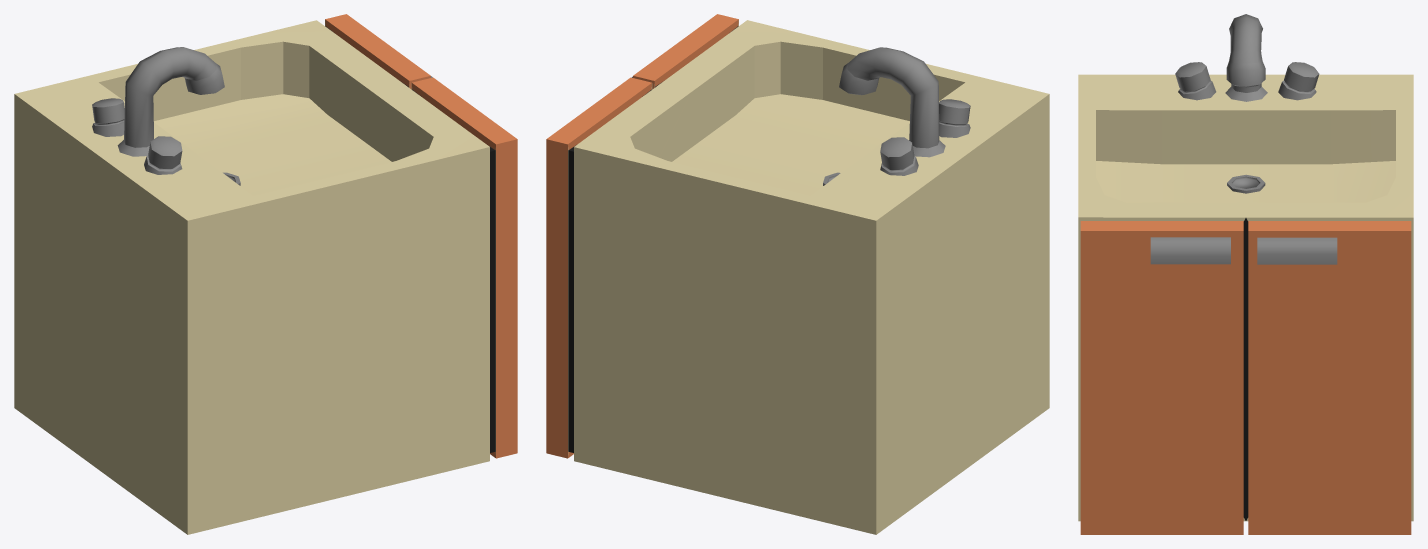
Rendered from SM_Sink_02 2.fbx.
3 renders of one model, left to right at view 1: azimuth 30°, elevation 25°; view 2: azimuth 150°, elevation 25°; view 3: azimuth 270°, elevation 25°, orthographic. The views are drawn at different scales.
Visible parts, largest first — view 1: SM_Sink_02; view 2: SM_Sink_02; view 3: SM_Sink_02.
Part boxes in pixels (<box>): SM_Sink_02: <box>14,14,517,534</box>; SM_Sink_02: <box>546,14,1049,534</box>; SM_Sink_02: <box>1078,14,1413,534</box>.
Bounding box in the file's own units: 1.15 × 1 × 1.29.
